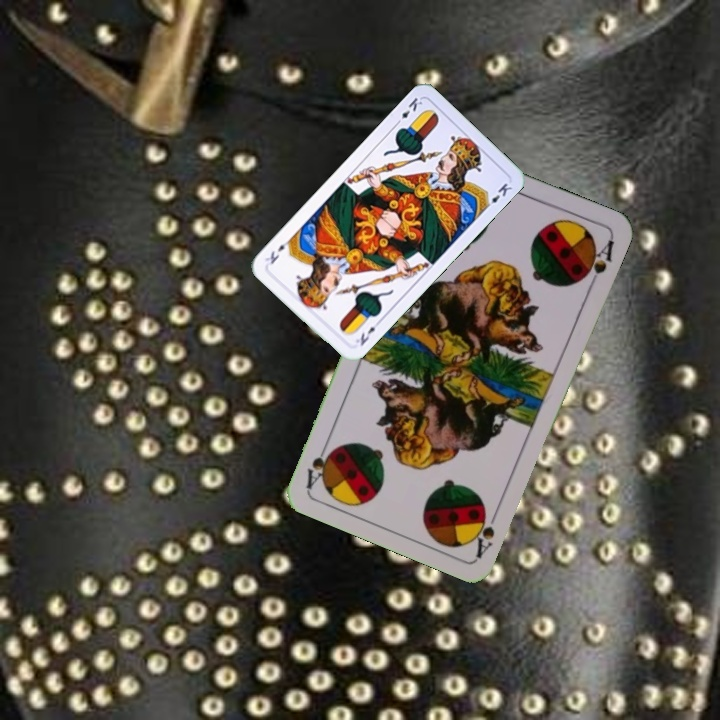EK: (391, 94, 425, 128), (352, 316, 383, 349)
SA: (468, 502, 502, 559)
